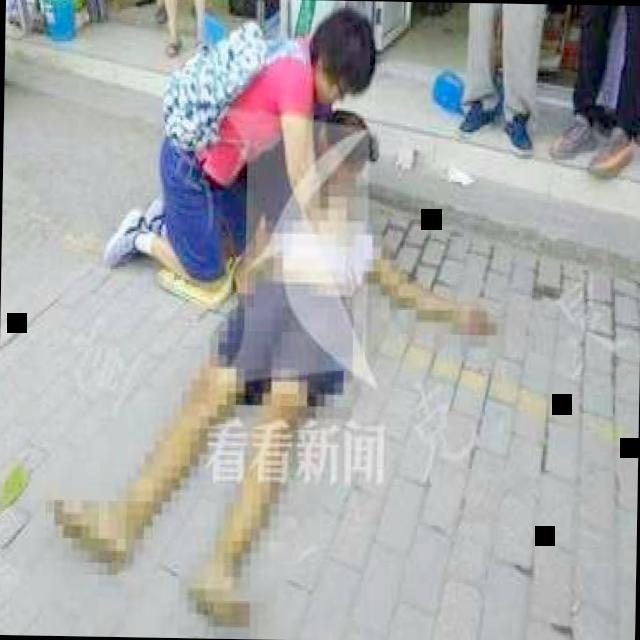Fall-Detected: (30, 85, 396, 640)
